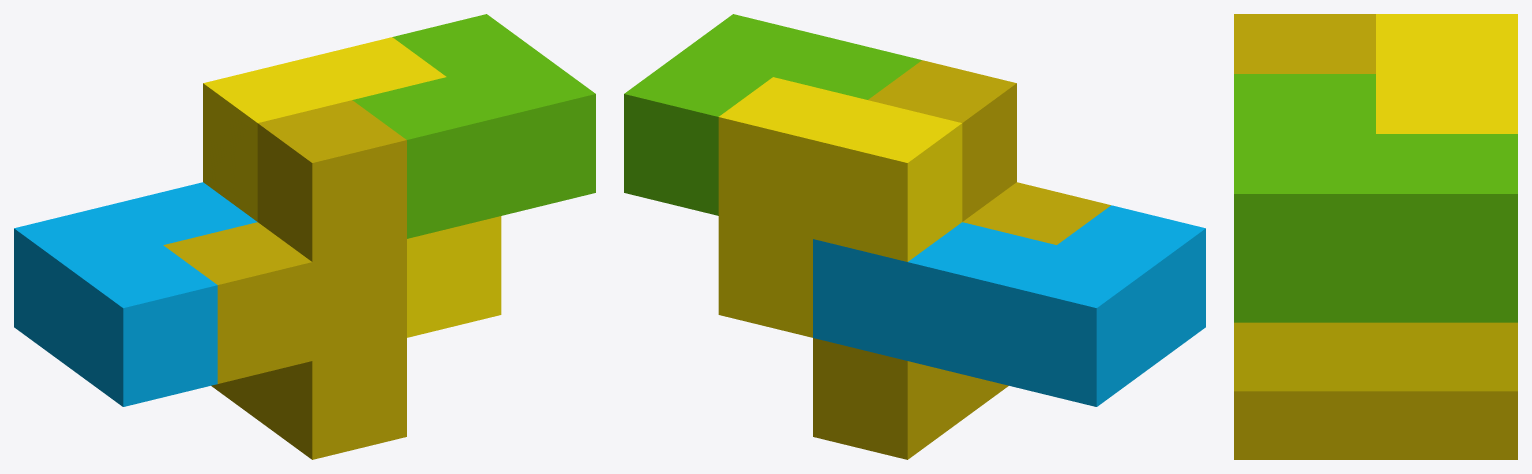
The picture shows the model from 3 angles, left to right: view 1: azimuth 30°, elevation 25°; view 2: azimuth 150°, elevation 25°; view 3: azimuth 270°, elevation 25°; orthographic projection. The views are drawn at different scales.
Parts seen in each view (by area): view 1: mergedBlocks(Clone); view 2: mergedBlocks(Clone); view 3: mergedBlocks(Clone).
Part boxes in pixels (left/top/right/bottom): mergedBlocks(Clone): left=14, top=14, right=595, bottom=459; mergedBlocks(Clone): left=624, top=14, right=1205, bottom=459; mergedBlocks(Clone): left=1234, top=14, right=1517, bottom=459.
Size of the model in its own units: 5 by 3 by 2.
4 materials, 4 textured.
